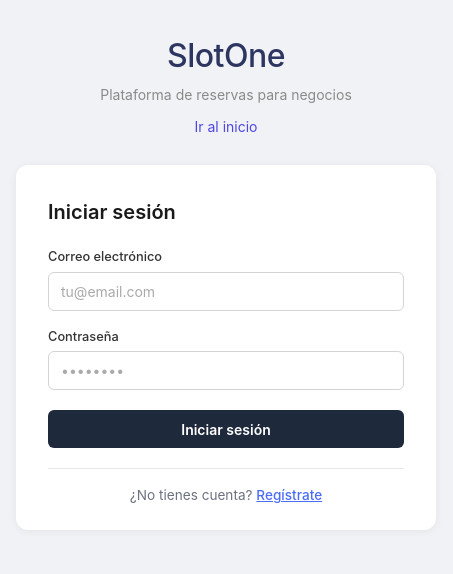
Test case: Login › valida campos vacios
Click the button "Iniciar sesión" at x=226, y=429, box [48,410,404,448]
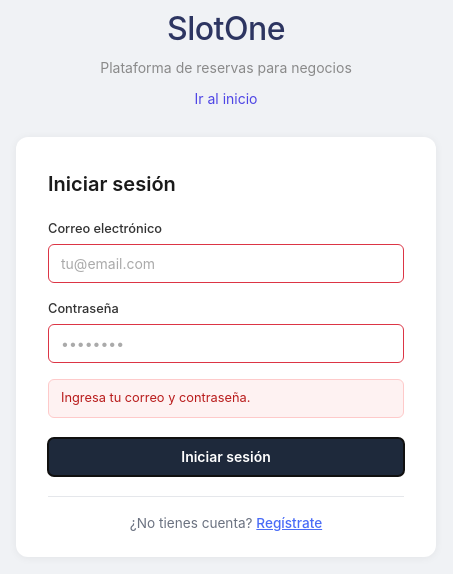
Check: the message reads "Ingresa tu correo y contraseña.", box [61,390,250,405]
